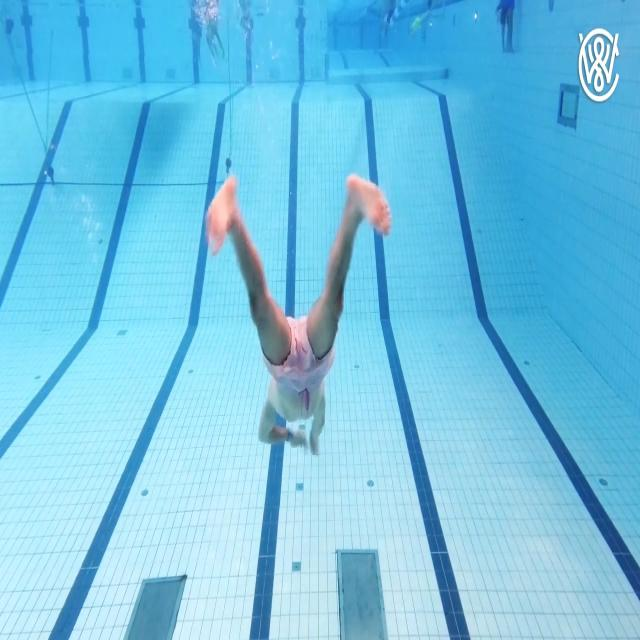Swimming: (206, 171, 392, 454)
